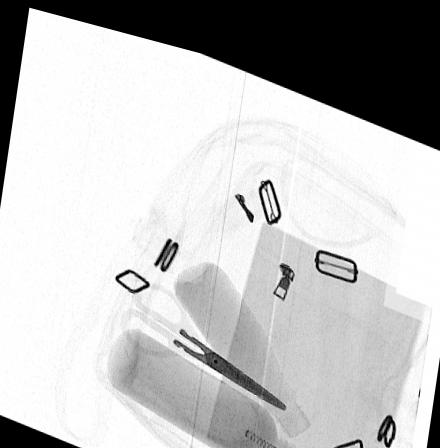Scissors: (120, 272, 286, 396)
